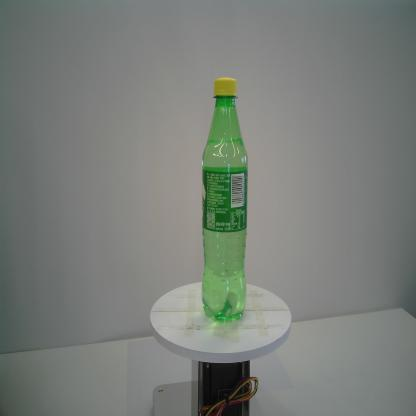Drink: (199, 74, 249, 326)
